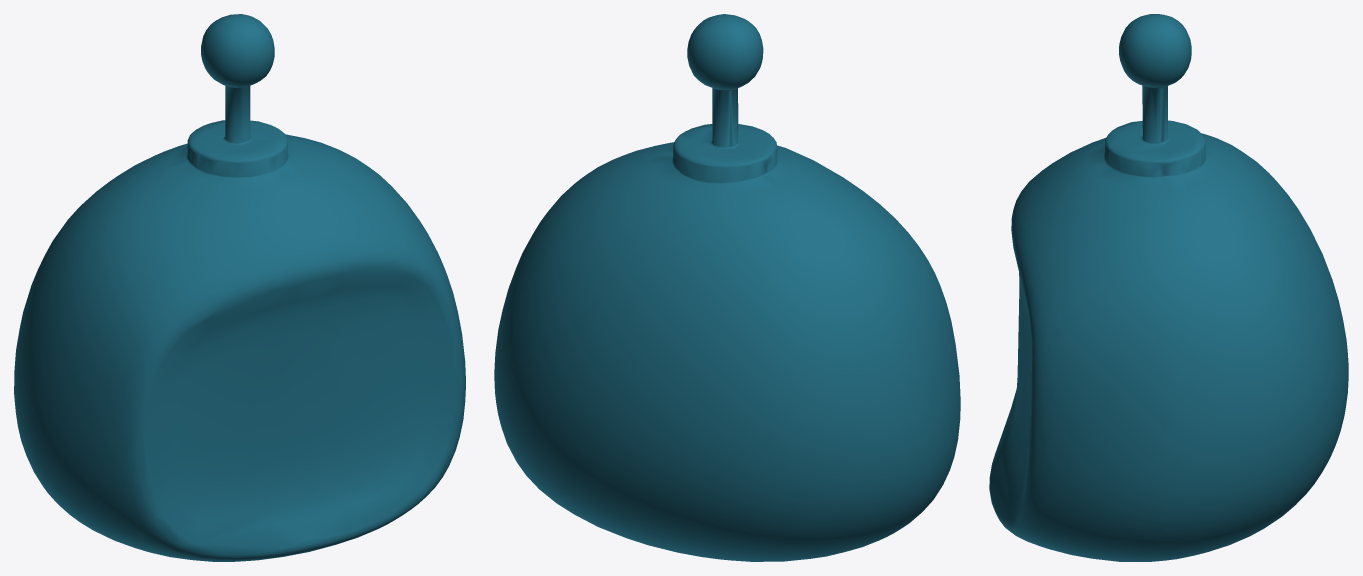
The model's file is Head.glb.
3 renders of one model, left to right at view 1: azimuth 30°, elevation 25°; view 2: azimuth 150°, elevation 25°; view 3: azimuth 270°, elevation 25°, orthographic. The views are drawn at different scales.
Parts seen in each view (by area): view 1: Group31120; view 2: Group31120; view 3: Group31120.
Boxes of the visible parts, <box> form: Group31120: <box>14,14,465,561</box>; Group31120: <box>494,14,960,561</box>; Group31120: <box>989,14,1348,561</box>.
Bounding box in the file's own units: 0.00385 × 0.0046 × 0.00298.
Materials: 1 (1 with a texture image).
